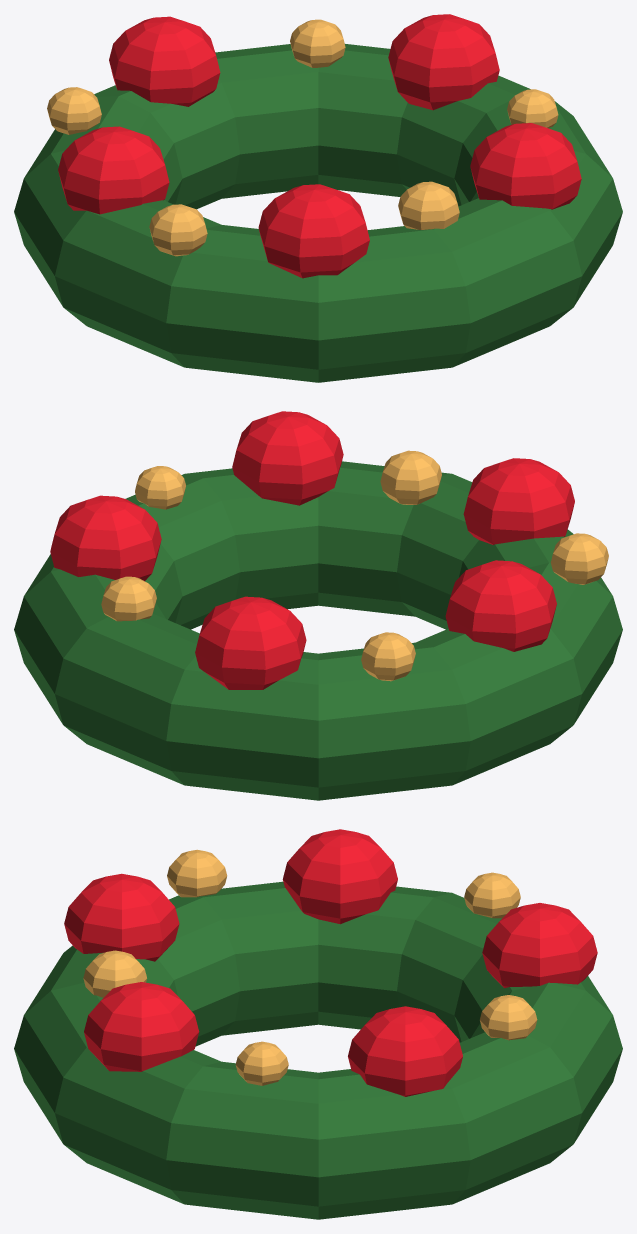
The model's file is Ornament_hoop.fbx.
3 renders of one model, top to bottom at view 1: azimuth 30°, elevation 25°; view 2: azimuth 150°, elevation 25°; view 3: azimuth 270°, elevation 25°, orthographic.
Visible parts, largest first — view 1: Ornament_hoop; view 2: Ornament_hoop; view 3: Ornament_hoop.
Boxes of the visible parts, left/top/right/bottom form: Ornament_hoop: left=14, top=14, right=622, bottom=382; Ornament_hoop: left=14, top=411, right=622, bottom=800; Ornament_hoop: left=14, top=829, right=622, bottom=1219.
Size of the model in its own units: 67.27 by 22.65 by 67.27.
